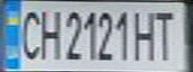1: (112, 7, 133, 61), (81, 7, 97, 61)
2: (60, 6, 84, 61), (96, 7, 115, 61)
C: (15, 4, 45, 61)
H: (36, 4, 63, 61), (133, 7, 160, 62)
T: (151, 6, 181, 62)
